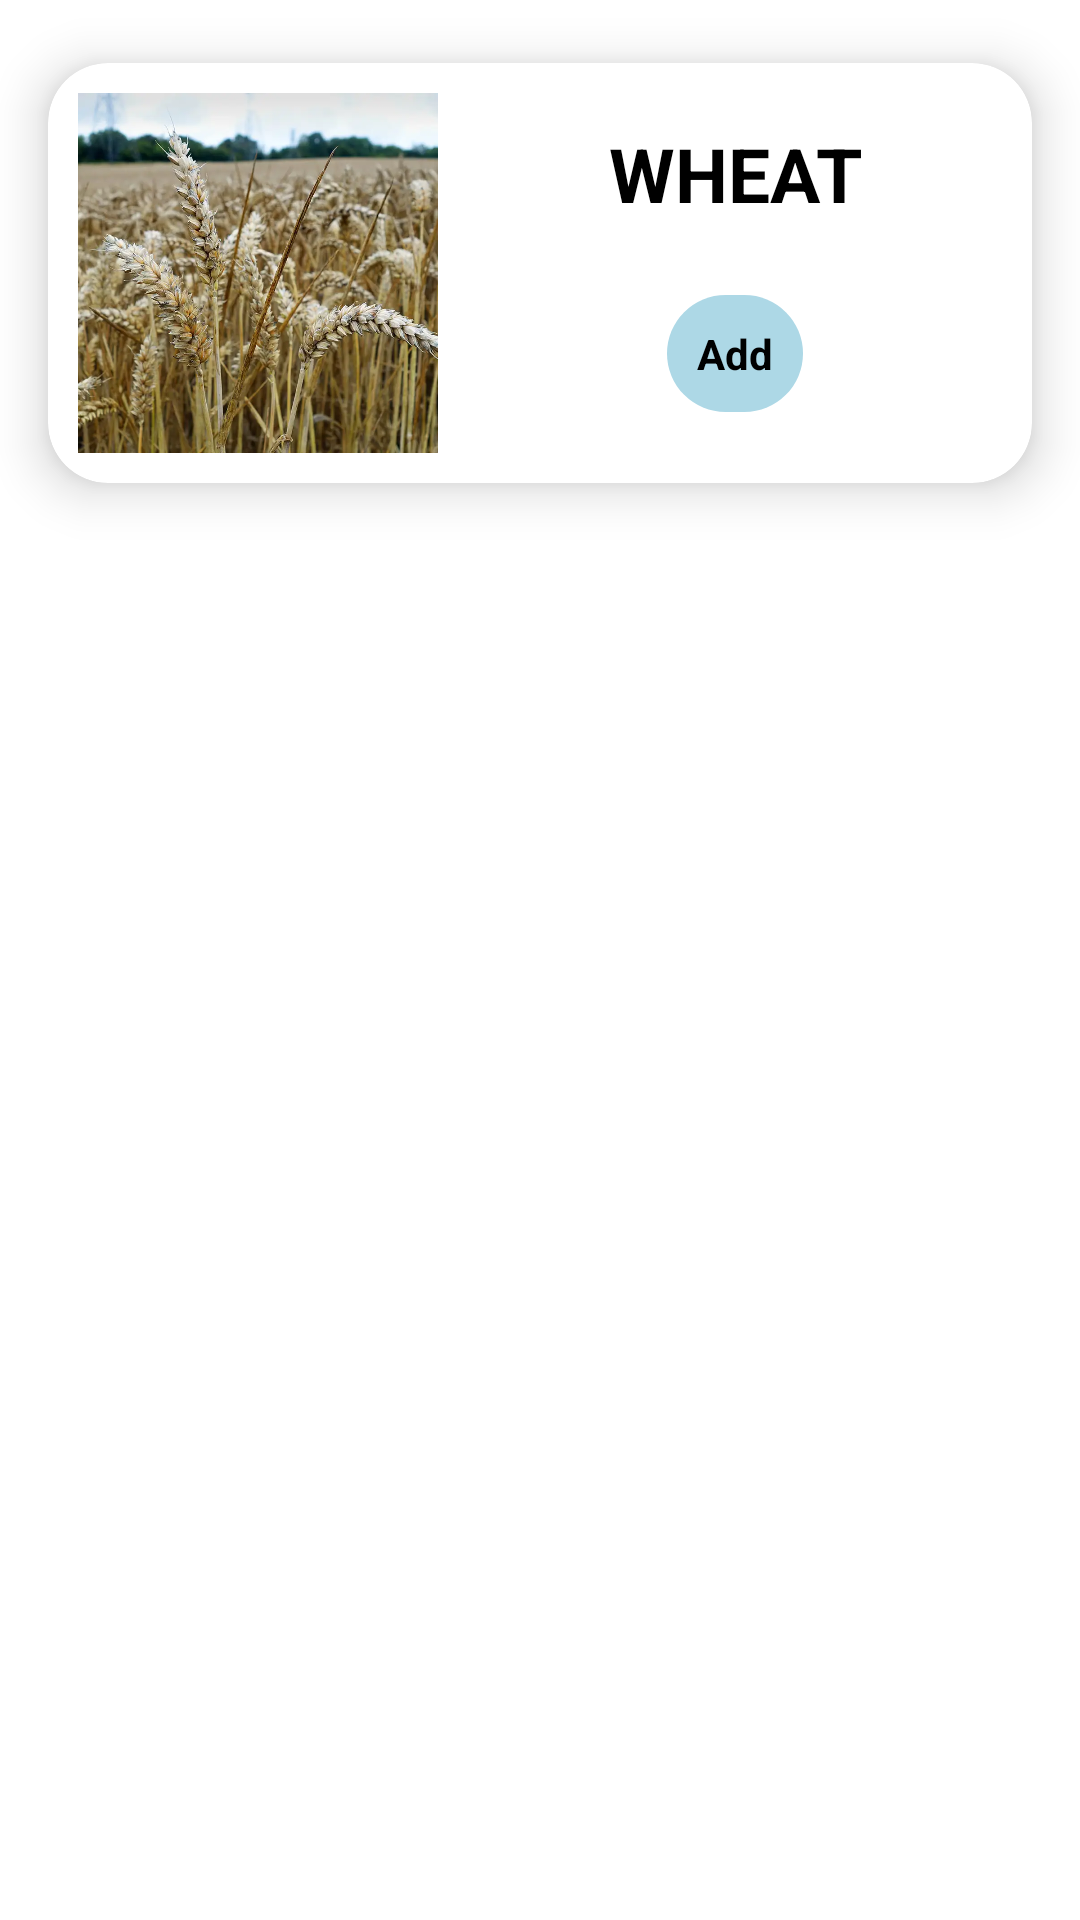

Screen size 1080px x 1920px. Icon name, then its center in pixels as point (x, y):
wheat: point (258, 273)
